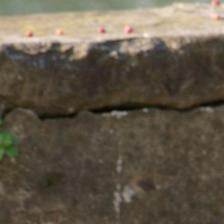Crack: (2, 47, 221, 85)
